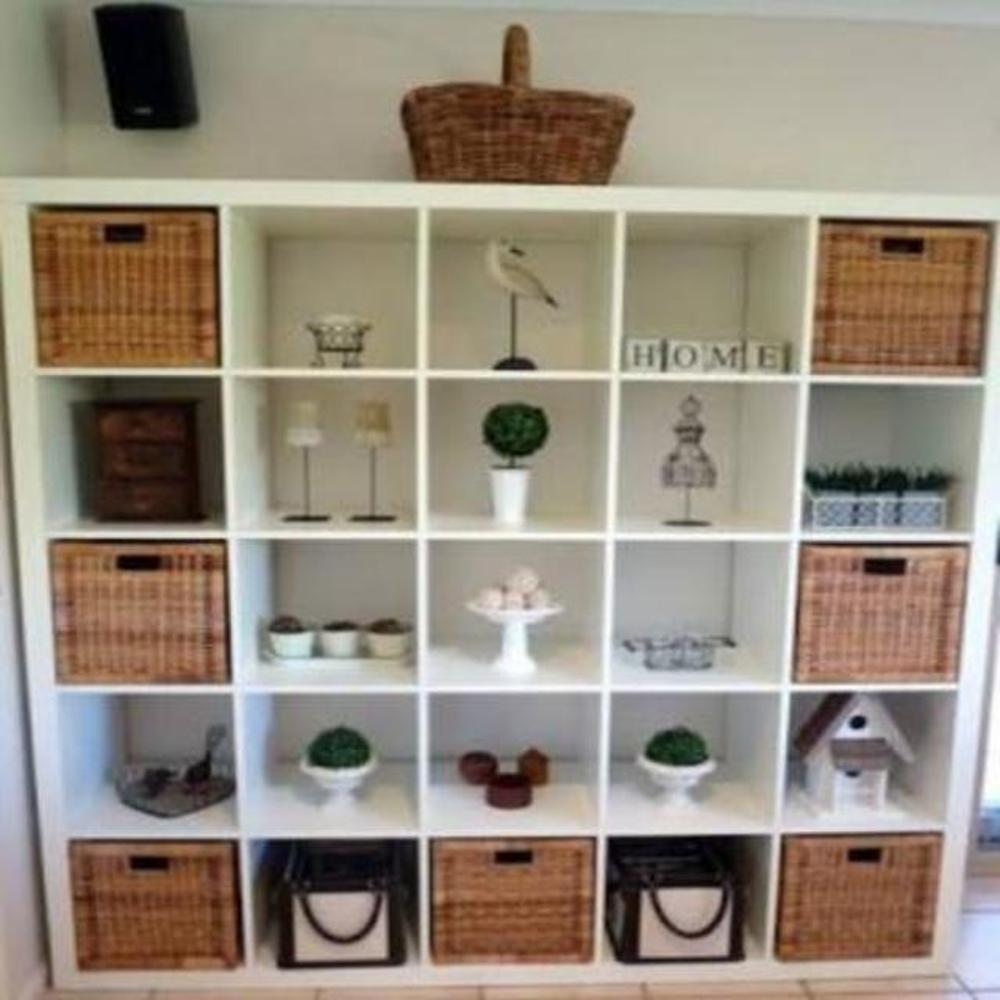lamp: (0, 175, 998, 995)
